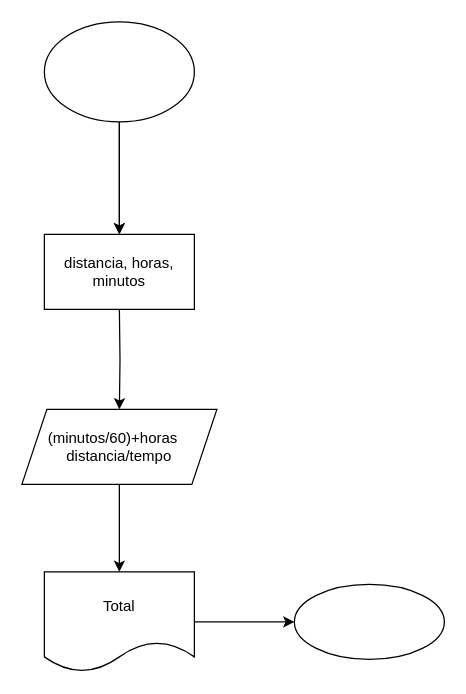
Image size: 466x694. Some labels were removed from this diagram. The shapes that lost their labels are listed below. From the top down, each one's box as (x1, y1, x2, y2) in pixels, then its label:
(43, 21, 194, 122): Início
(293, 583, 444, 659): Fim
